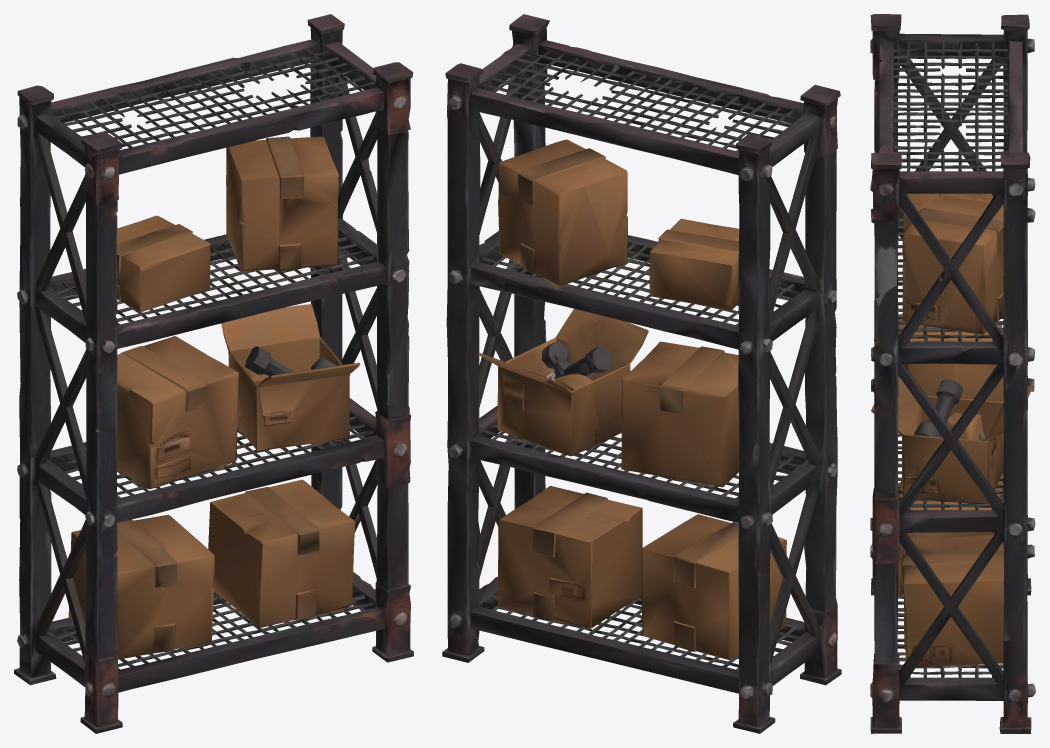
Rendered from rack_metal_s_3_polkami_idle.glb.
The picture shows the model from 3 angles, left to right: view 1: azimuth 30°, elevation 25°; view 2: azimuth 150°, elevation 25°; view 3: azimuth 270°, elevation 25°; orthographic projection. The views are drawn at different scales.
Parts seen in each view (by area): view 1: tripo_node_72c60416-24dd-4b15-9573-62c589bbd519; view 2: tripo_node_72c60416-24dd-4b15-9573-62c589bbd519; view 3: tripo_node_72c60416-24dd-4b15-9573-62c589bbd519.
Part boxes in pixels (box(x1,y1,x2,y2)): tripo_node_72c60416-24dd-4b15-9573-62c589bbd519: box(14, 14, 413, 733); tripo_node_72c60416-24dd-4b15-9573-62c589bbd519: box(442, 14, 841, 733); tripo_node_72c60416-24dd-4b15-9573-62c589bbd519: box(870, 14, 1035, 733).
Bounding box in the file's own units: 1.16 × 2 × 0.527.
1 material, 1 textured.
